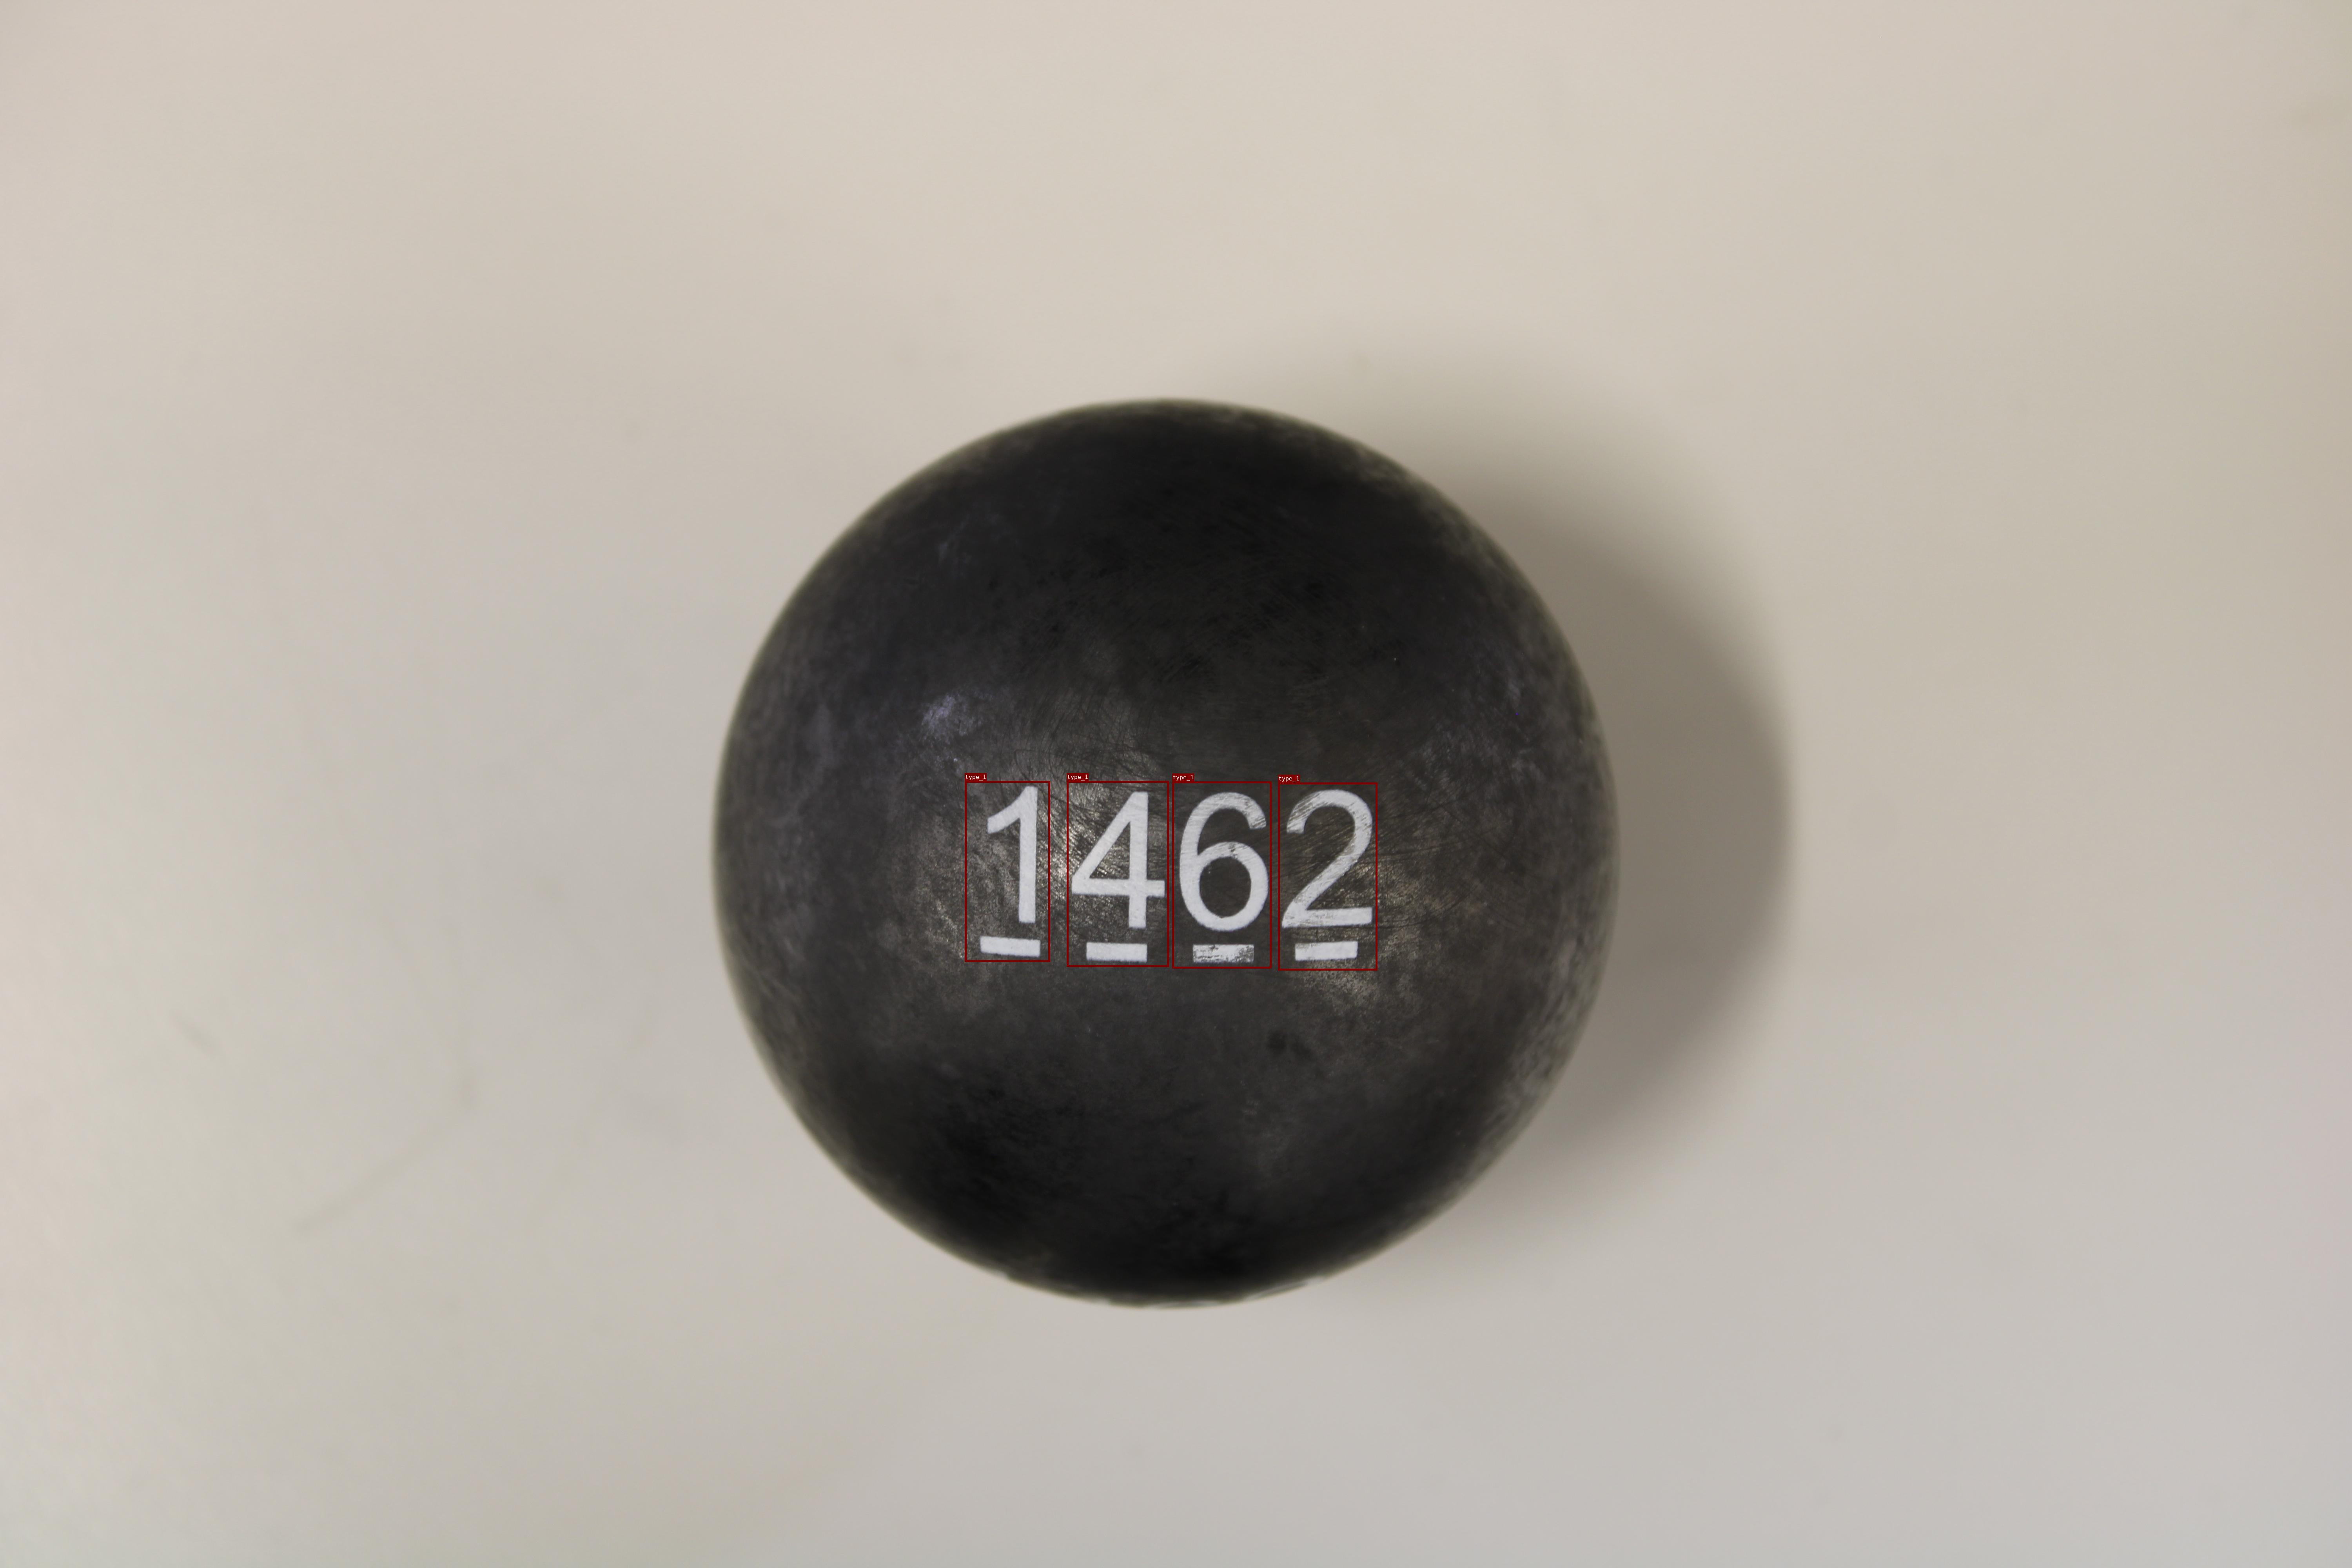type_1: (1067, 781, 1169, 966), (1277, 782, 1377, 970), (1172, 781, 1270, 968), (964, 781, 1050, 961)
